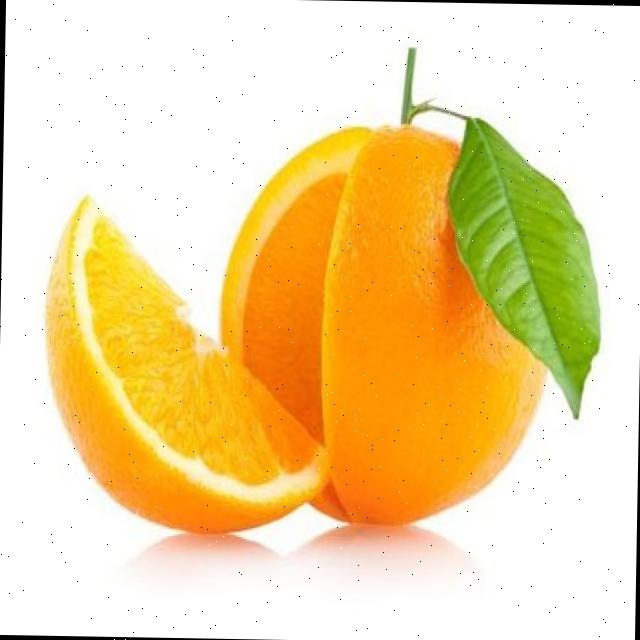Jeruk: (41, 190, 335, 536), (316, 120, 554, 528), (216, 120, 380, 522)
